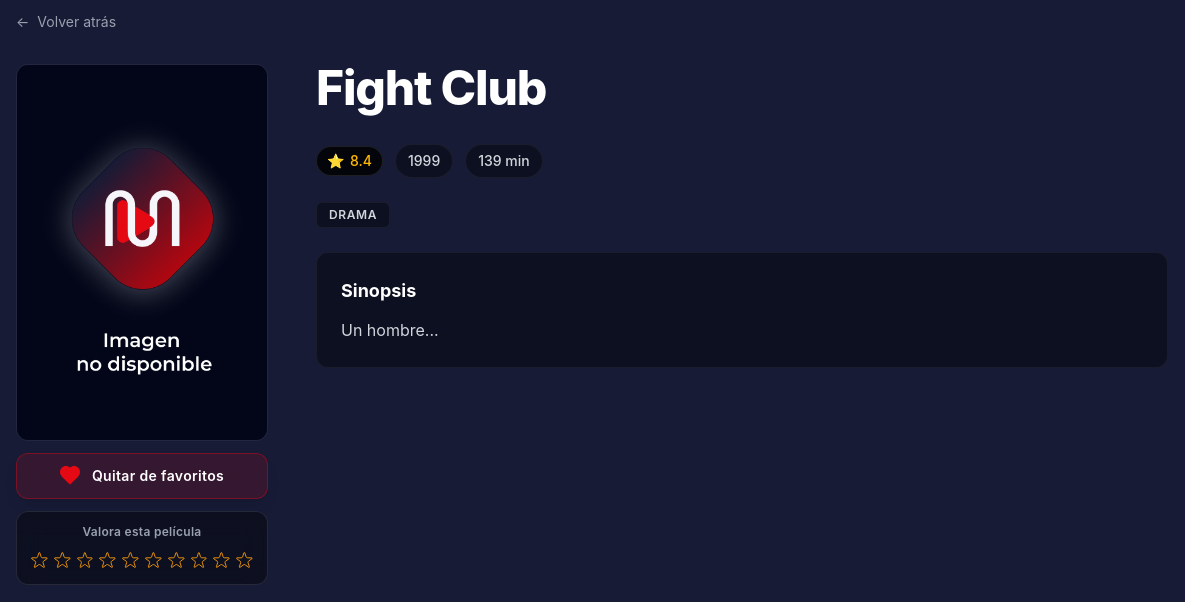
Gestión de favoritos y puntuación › Escenario: Puntuar una película favorita
Check: the button "Quitar de favoritos" is shown, box [16,453,268,499]
Click the button named "puntuar con 5 estrellas" at (131, 560), box [120,548,141,572]
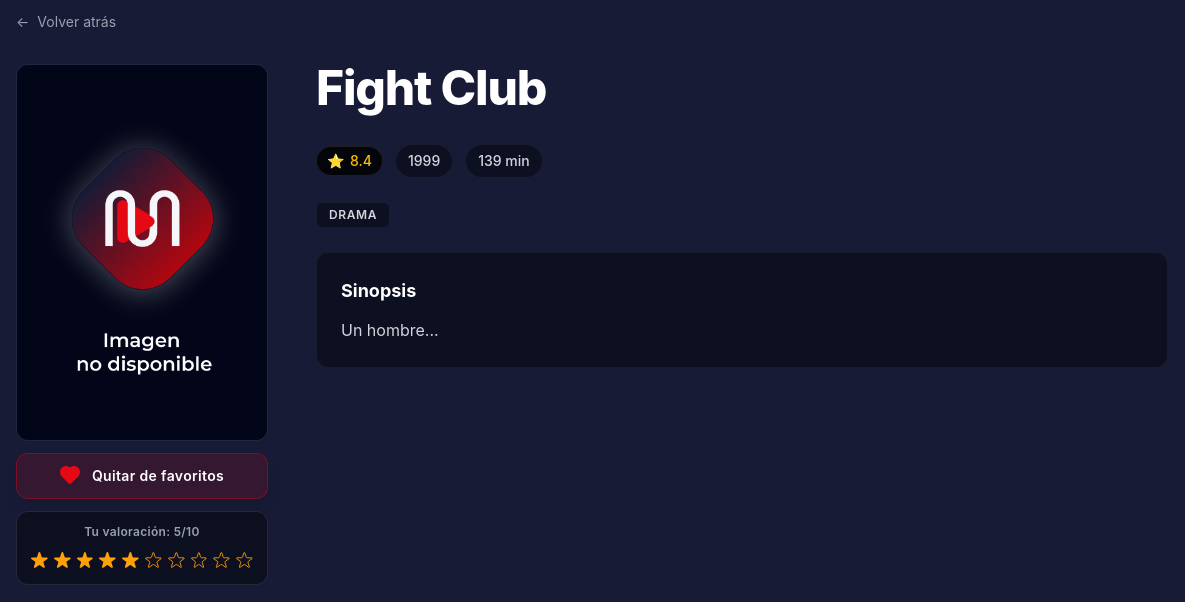
Check: the text "Tu valoración: 5/10" is shown, box [84,524,200,539]
